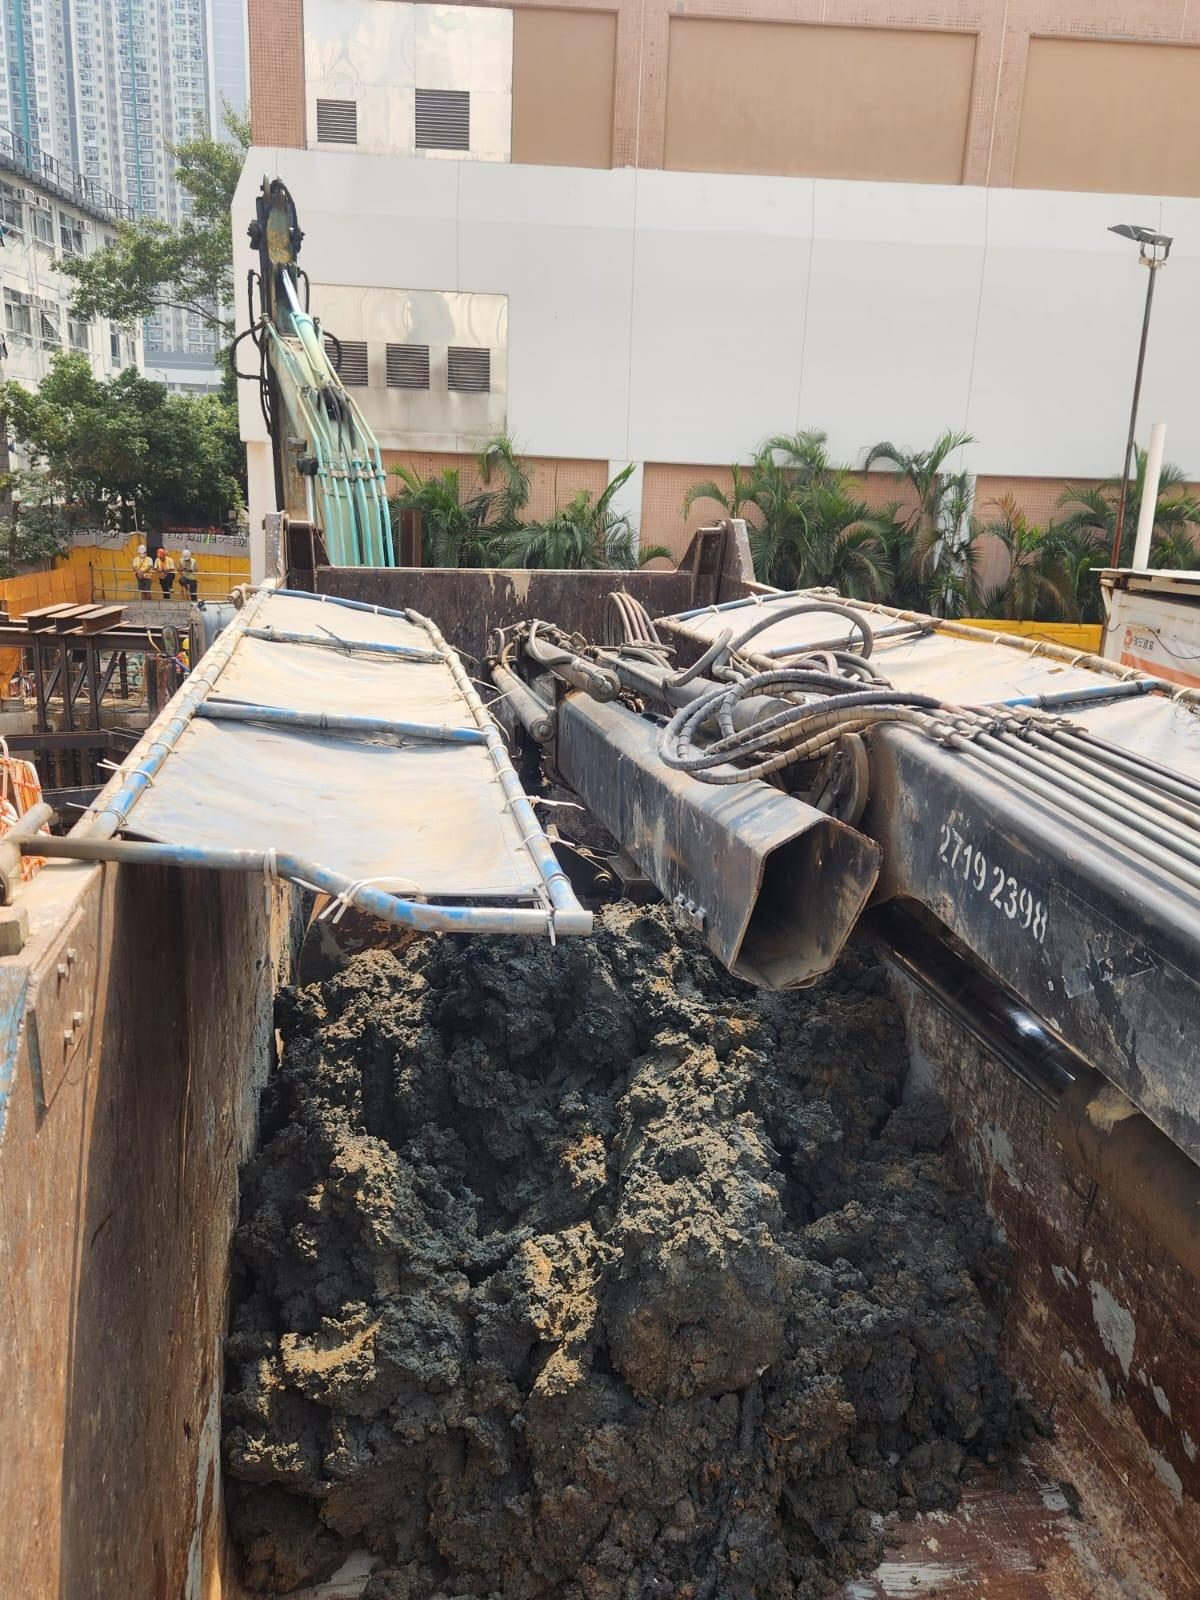wet: (223, 884, 1060, 1597)
